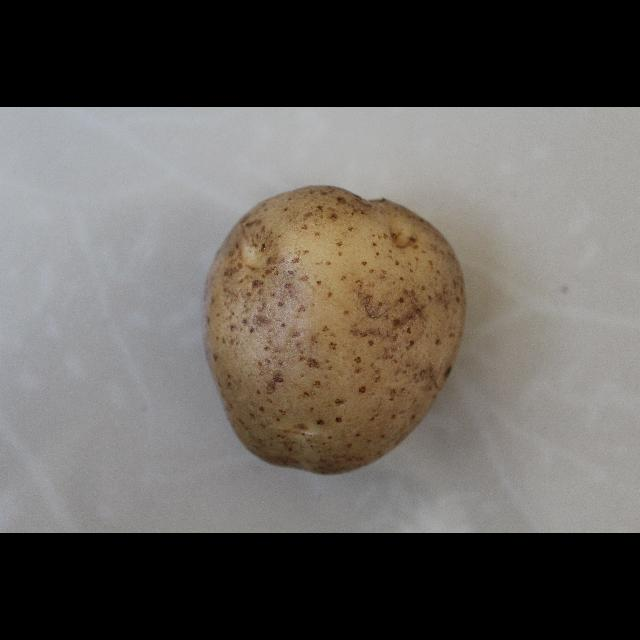Diseased-fungal potato: (195, 183, 472, 479)
